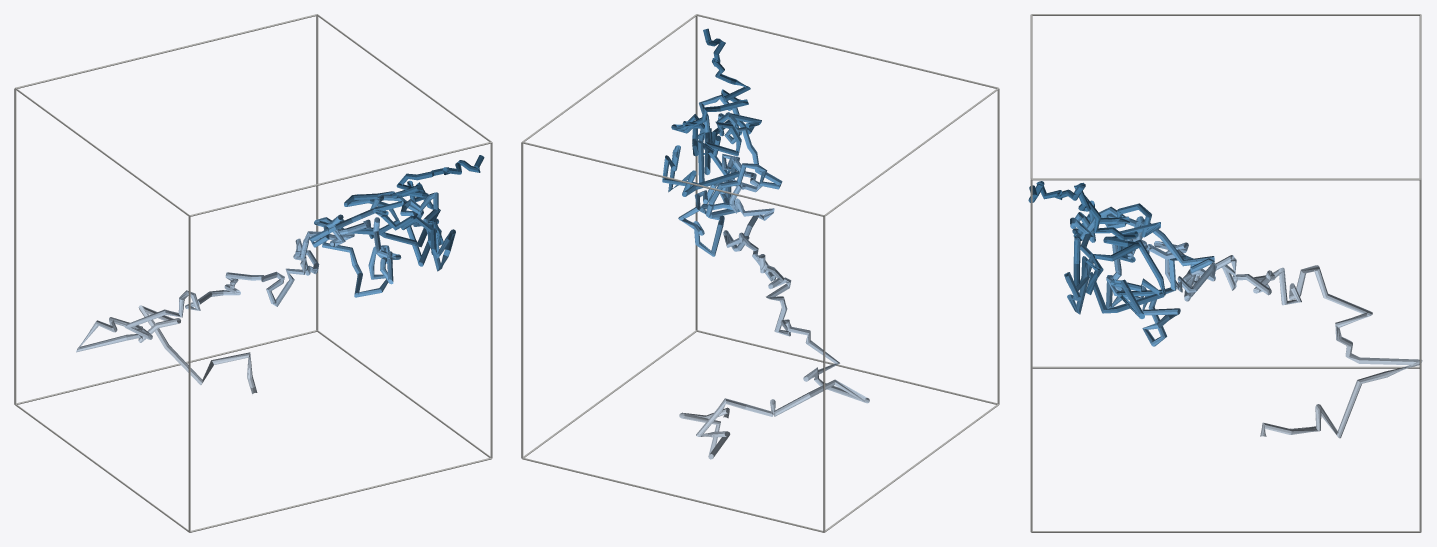
3 views of the same model, side by side, from view 1: azimuth 30°, elevation 25°; view 2: azimuth 150°, elevation 25°; view 3: azimuth 270°, elevation 25° (orthographic). The views are drawn at different scales.
Visible parts, largest first — view 1: geometry_0, geometry_1; view 2: geometry_0, geometry_1; view 3: geometry_0, geometry_1.
Part boxes in pixels (box(x1,y1,x2,y2)): geometry_0: box(76, 155, 484, 394); geometry_1: box(14, 14, 492, 532); geometry_0: box(662, 28, 869, 459); geometry_1: box(521, 14, 999, 532); geometry_0: box(1028, 181, 1422, 438); geometry_1: box(1030, 14, 1421, 532).
Size of the model in its own units: 0.3016 by 0.3014 by 0.3039.
